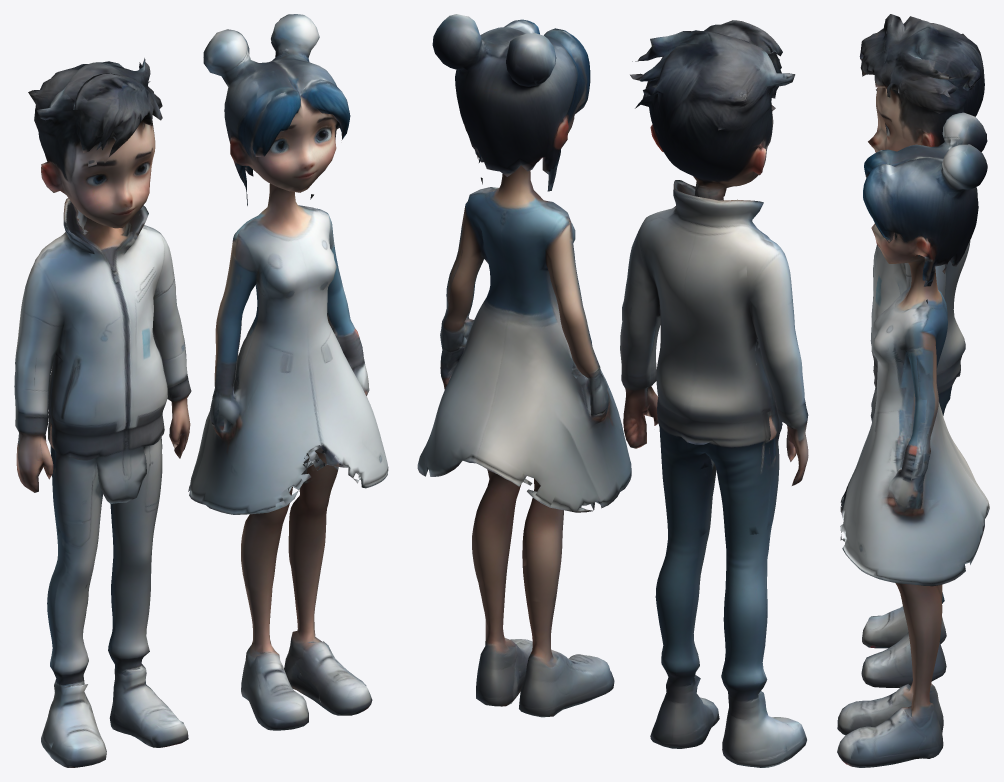
File: young_couples.glb
3 views of the same model, side by side, from view 1: azimuth 30°, elevation 25°; view 2: azimuth 150°, elevation 25°; view 3: azimuth 270°, elevation 25° (orthographic). The views are drawn at different scales.
Size of the model in its own units: 1.1 by 2 by 0.4338.
1 material, 1 textured.
